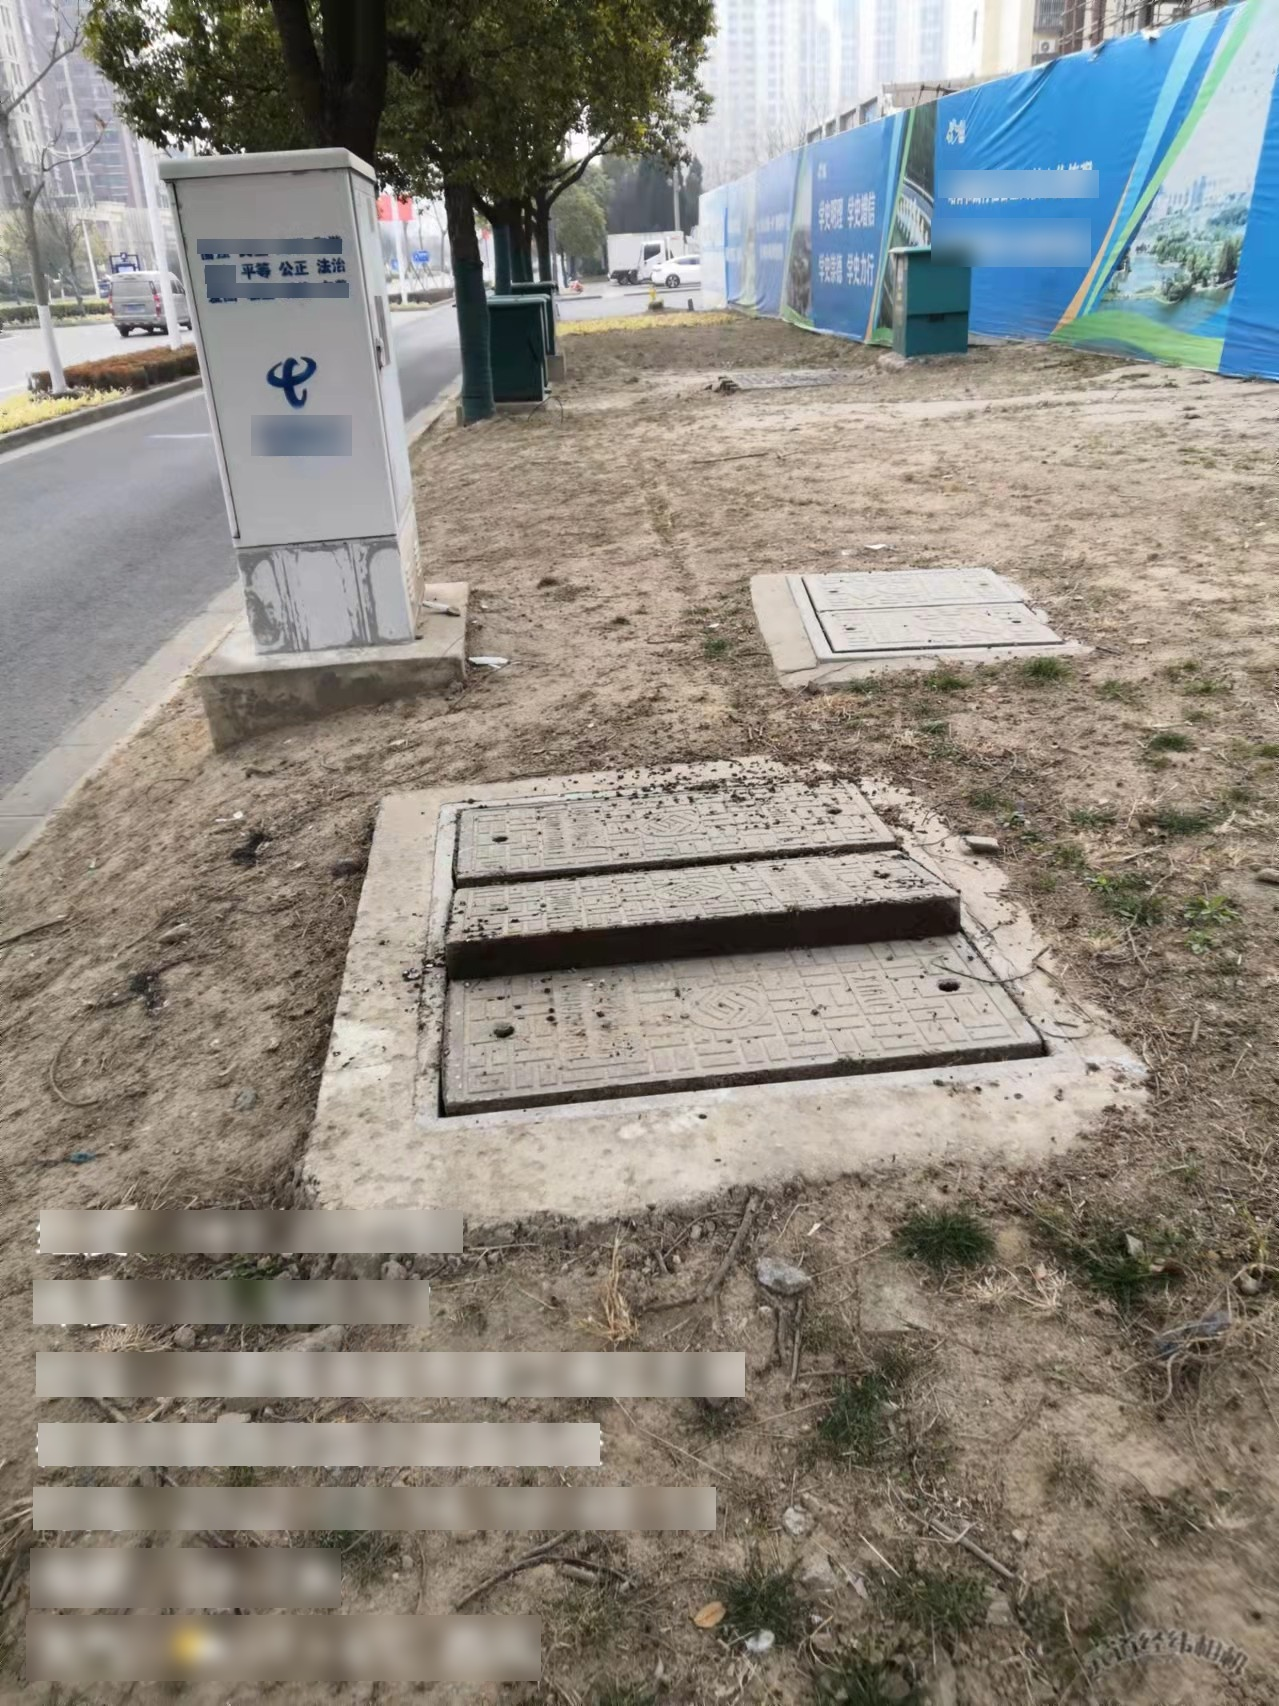good: (782, 559, 1088, 664)
uncovered: (421, 774, 1071, 1139)
